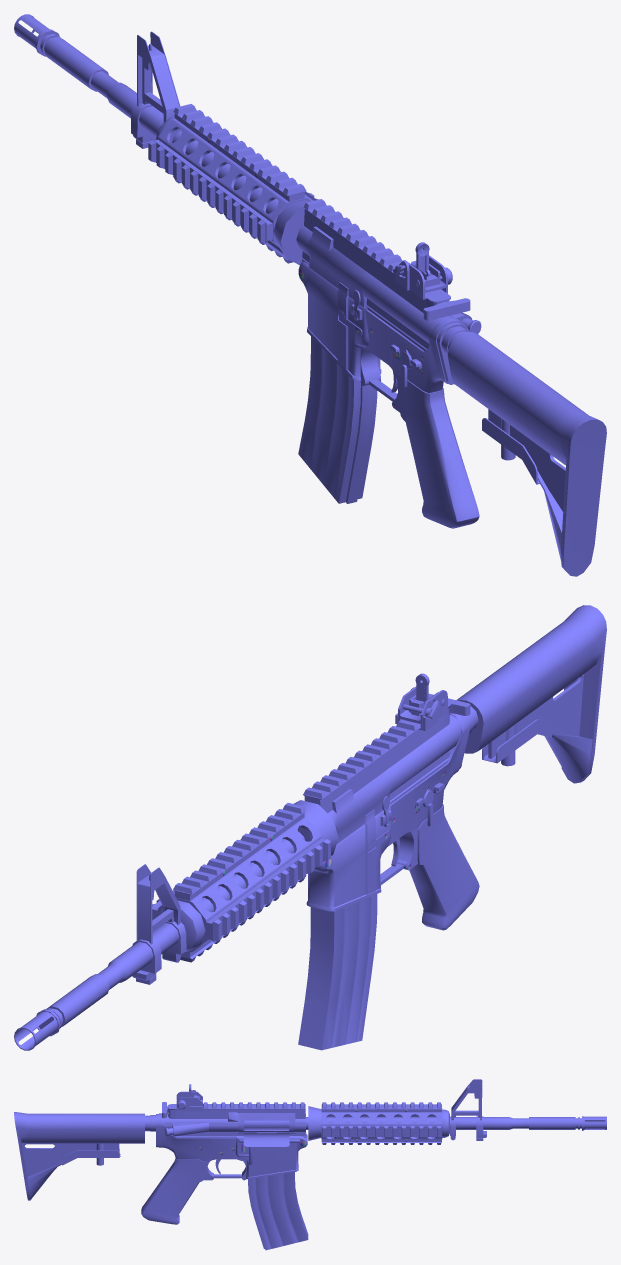
3 renders of one model, top to bottom at view 1: azimuth 30°, elevation 25°; view 2: azimuth 150°, elevation 25°; view 3: azimuth 270°, elevation 25°, orthographic. The views are drawn at different scales.
Visible parts, largest first — view 1: Base, Barrel, Stock, Magazine, Sight; view 2: Base, Barrel, Stock, Magazine, Sight; view 3: Base, Barrel, Stock, Magazine, Ejector_Lid, Sight, Ejector.
Part boxes in pixels (bbox=[...]): Base: bbox=[296, 199, 481, 528]; Barrel: bbox=[14, 14, 318, 265]; Stock: bbox=[441, 326, 606, 576]; Magazine: bbox=[298, 336, 377, 503]; Sight: bbox=[395, 242, 447, 299]; Base: bbox=[303, 702, 479, 930]; Barrel: bbox=[14, 800, 338, 1050]; Stock: bbox=[456, 605, 606, 783]; Magazine: bbox=[298, 894, 377, 1050]; Sight: bbox=[395, 673, 447, 730]; Base: bbox=[141, 1102, 307, 1224]; Barrel: bbox=[306, 1079, 606, 1144]; Stock: bbox=[14, 1112, 155, 1200]; Magazine: bbox=[248, 1172, 308, 1250]; Ejector_Lid: bbox=[237, 1132, 296, 1146]; Sight: bbox=[176, 1084, 202, 1111]; Ejector: bbox=[243, 1120, 289, 1128].
Size of the model in its own units: 0.0954 by 0.3995 by 1.29.
Materials: 1 (1 with a texture image).
